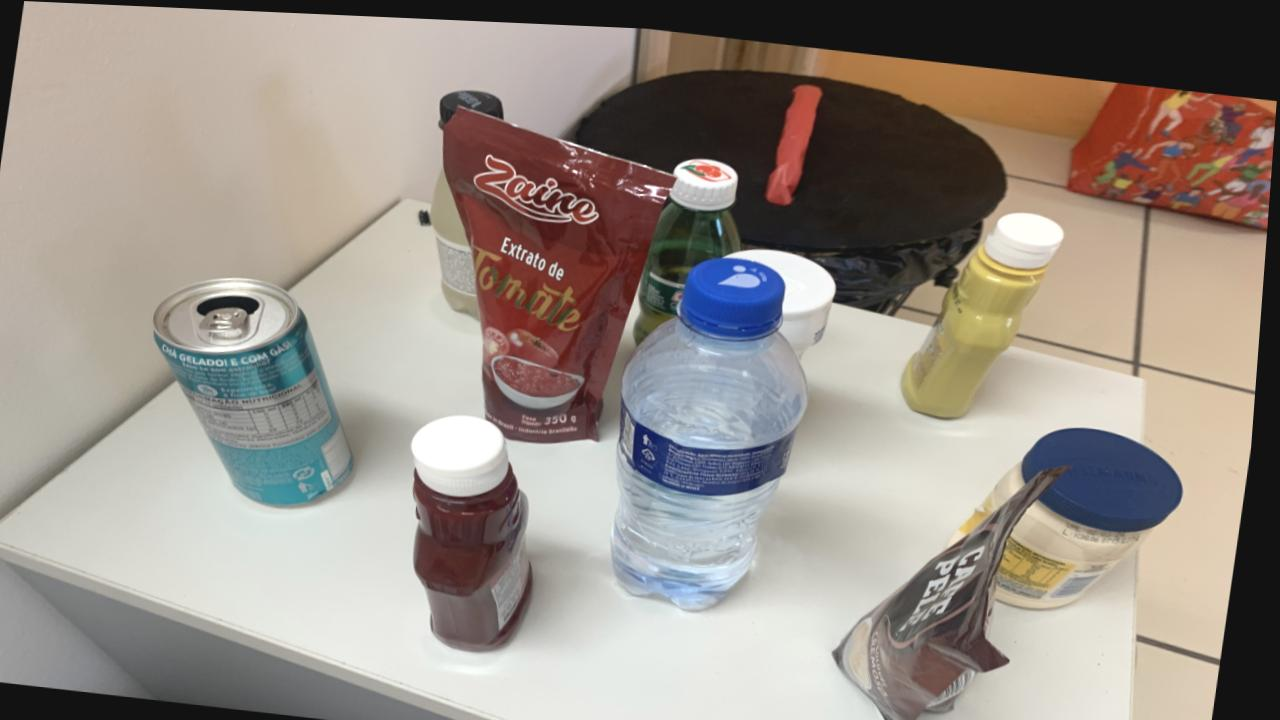Cleaner-Cleanup_Items: (732, 241, 839, 345)
Coffee-Pantry_Items: (842, 456, 1072, 720)
Guarana-Drinks: (637, 151, 744, 337)
Ketchup-Pantry_Items: (417, 410, 541, 647)
Mayonnaise-Pantry_Items: (960, 417, 1189, 598)
Mustard-Pantry_Items: (906, 202, 1065, 409)
Soda-Drinks: (432, 165, 483, 313), (440, 85, 505, 124)
Tea-Drinks: (158, 275, 360, 503)
Tomato_Sauce-Pantry_Items: (444, 103, 677, 438)
Water_Bottle-Drinks: (617, 249, 813, 603)
